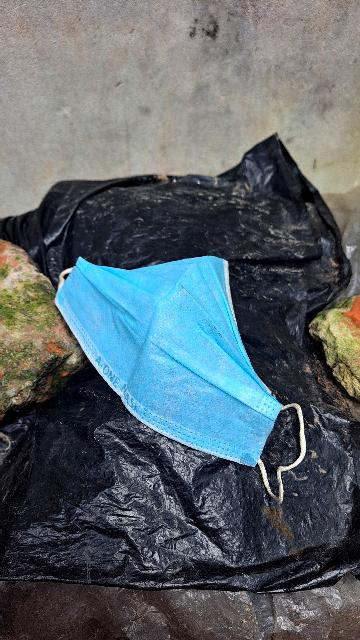mask: (50, 227, 340, 516)
